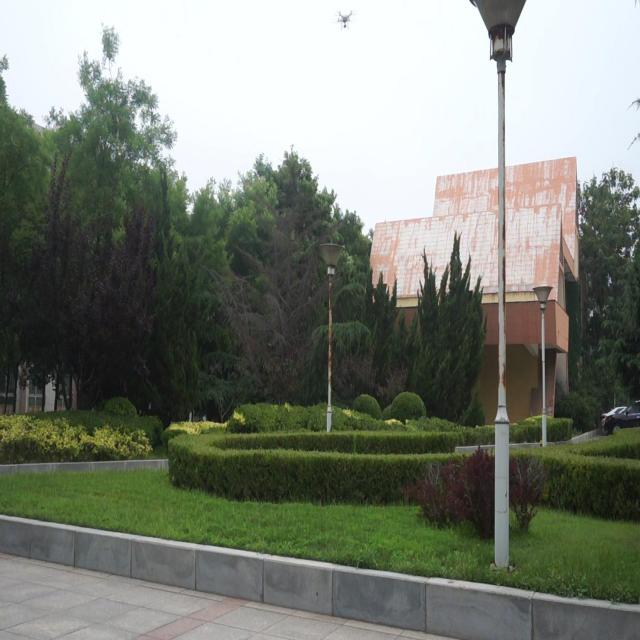UAV: (332, 9, 357, 31)
